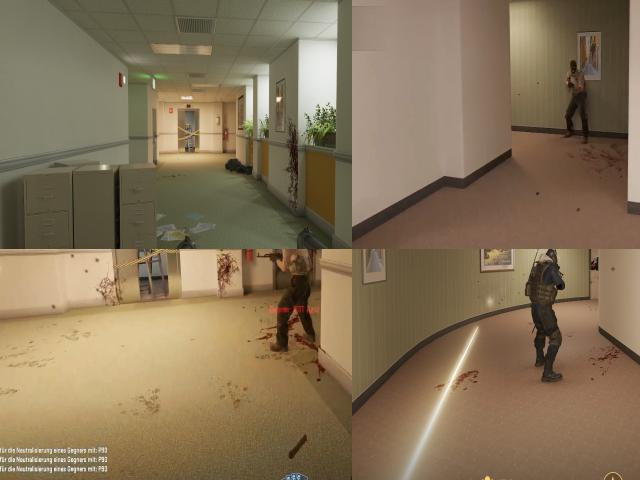CT: (533, 249, 561, 380)
CT-Head: (544, 249, 558, 266)
Dead: (223, 156, 254, 181)
T: (268, 249, 315, 305)
T-Head: (566, 64, 588, 130), (568, 58, 579, 78)
